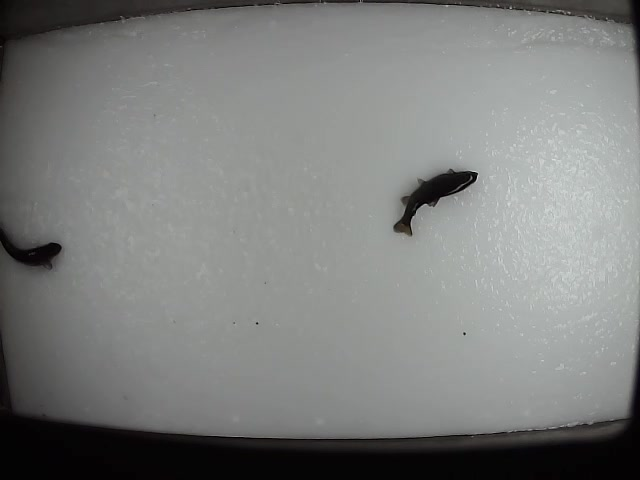Fish: (394, 168, 478, 236)
